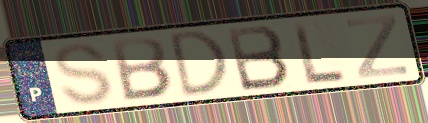B: (223, 23, 293, 94), (109, 34, 175, 103)
D: (168, 28, 232, 101)
L: (289, 20, 349, 87)
S: (51, 41, 116, 108)
Z: (343, 12, 411, 81)
